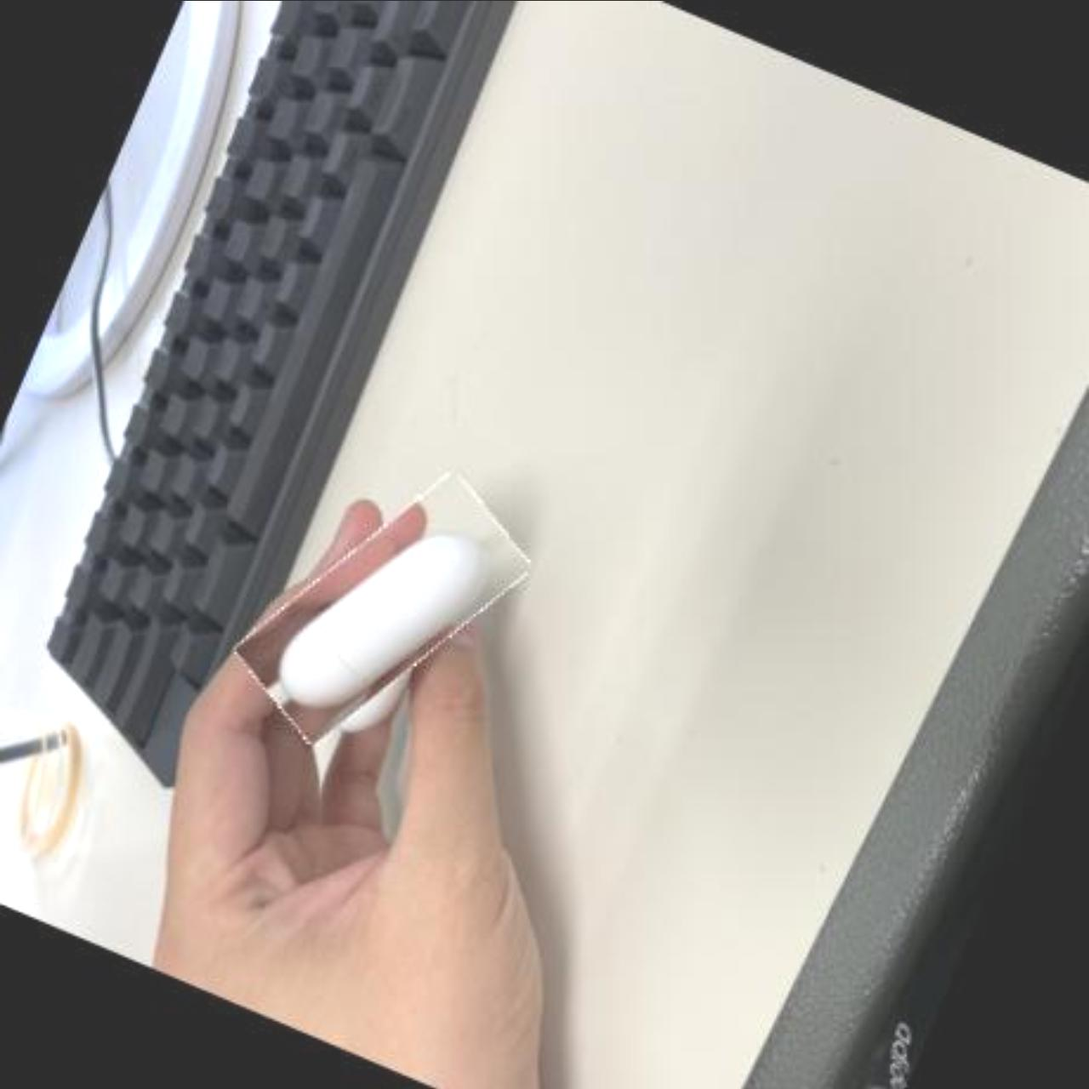AirPods: (239, 437, 525, 783)
